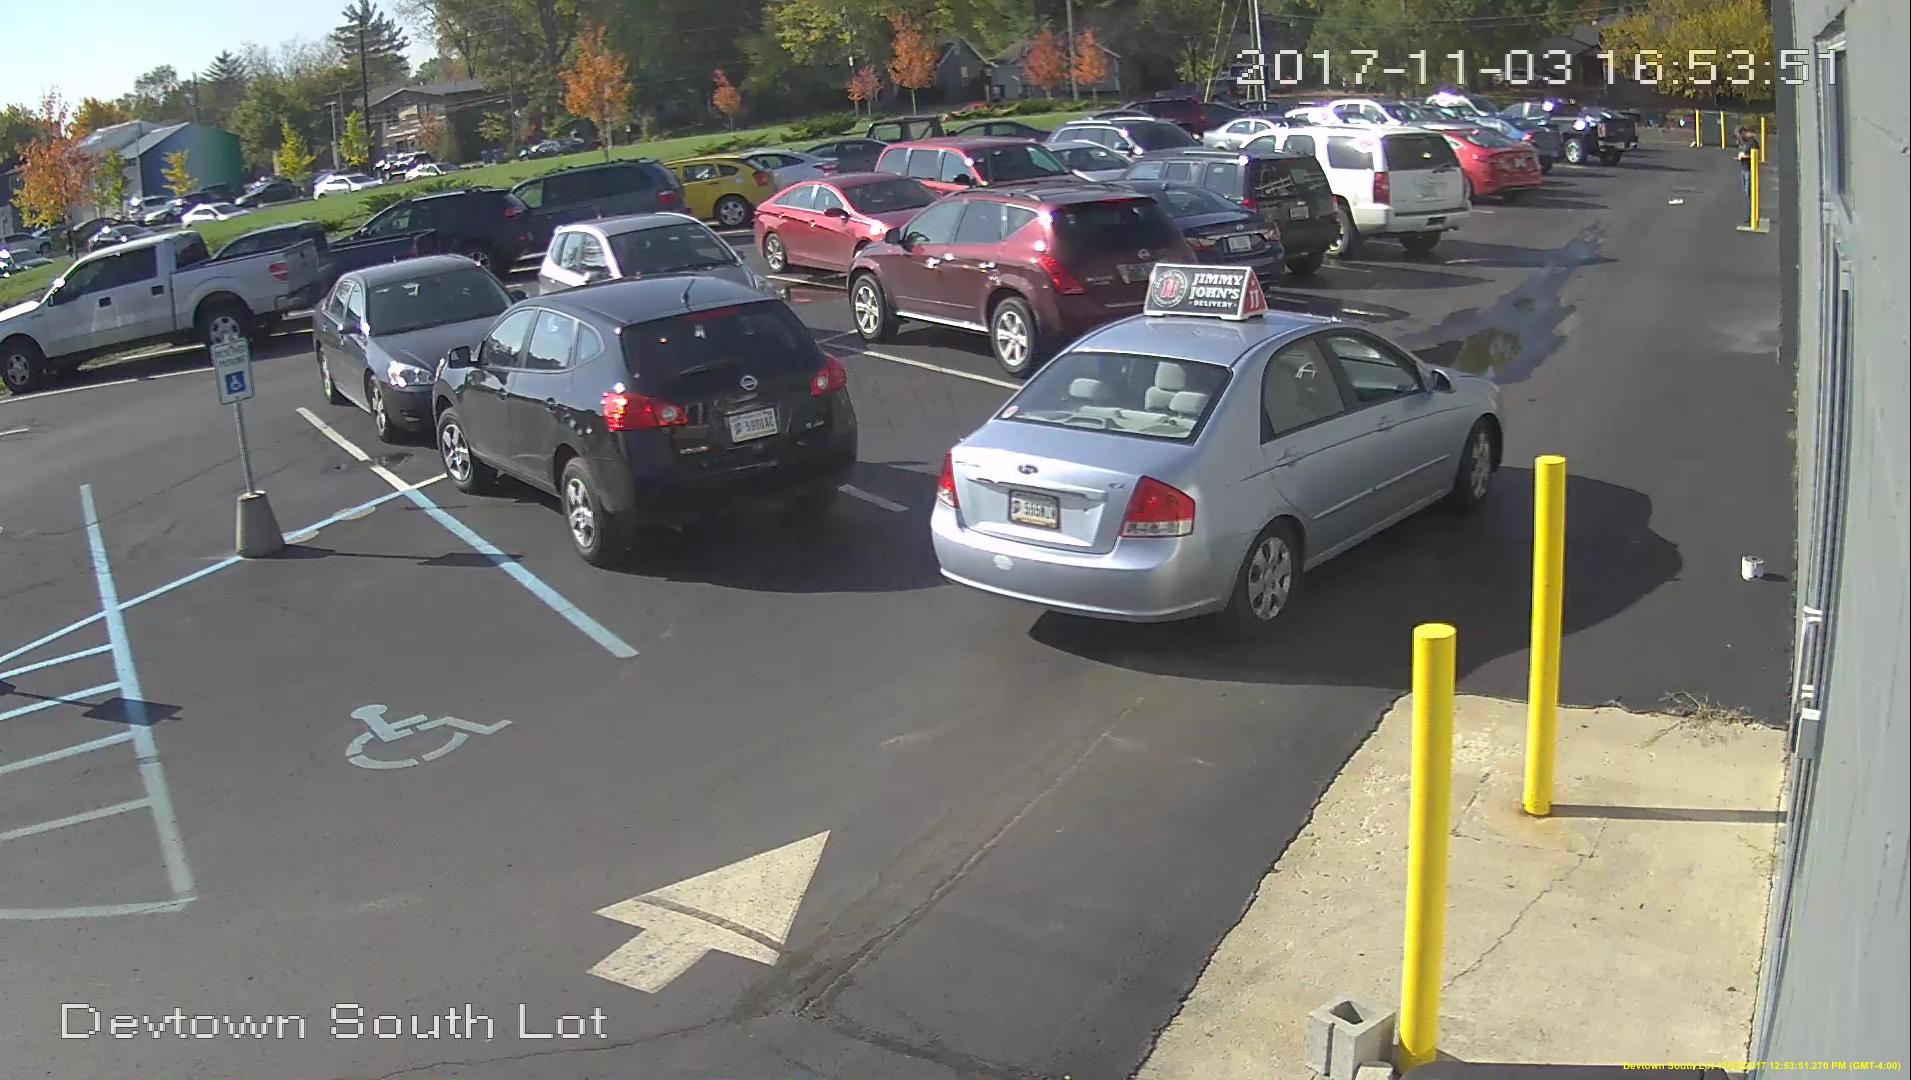jimmy_johns: (1137, 257, 1270, 324)
